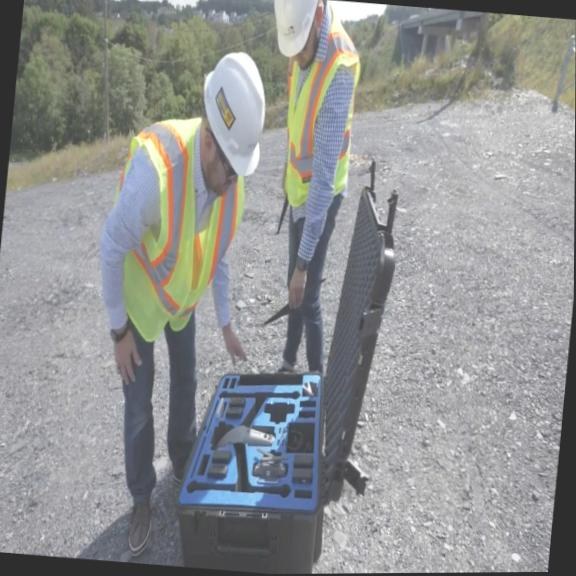safety_vest: (102, 112, 254, 350), (278, 0, 368, 213)
